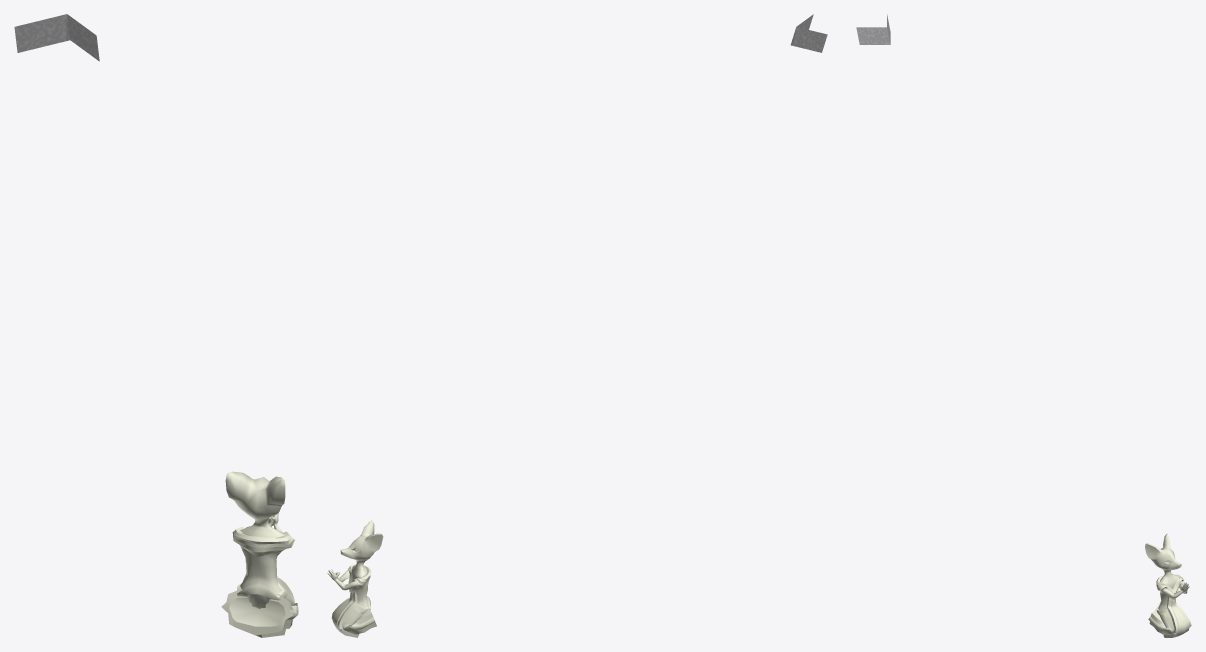
The model's file is beach_statue_Indicator (NE).fbx.
The picture shows the model from 3 angles, left to right: view 1: azimuth 30°, elevation 25°; view 2: azimuth 150°, elevation 25°; view 3: azimuth 270°, elevation 25°; orthographic projection. The views are drawn at different scales.
Parts seen in each view (by area): view 1: fox statue, glow eye plane; view 2: fox statue, glow eye plane; view 3: fox statue, glow eye plane.
Part boxes in pixels (x1,y1,x2,y2): fox statue: [221, 471, 298, 637]; glow eye plane: [14, 14, 99, 61]; fox statue: [327, 520, 383, 637]; glow eye plane: [790, 14, 827, 52]; fox statue: [1145, 534, 1191, 637]; glow eye plane: [856, 14, 890, 44].
Bounding box in the file's own units: 9.36 × 15.01 × 9.35.
